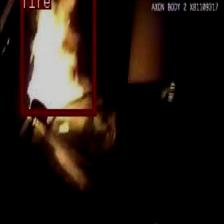fire: (20, 0, 95, 115)
